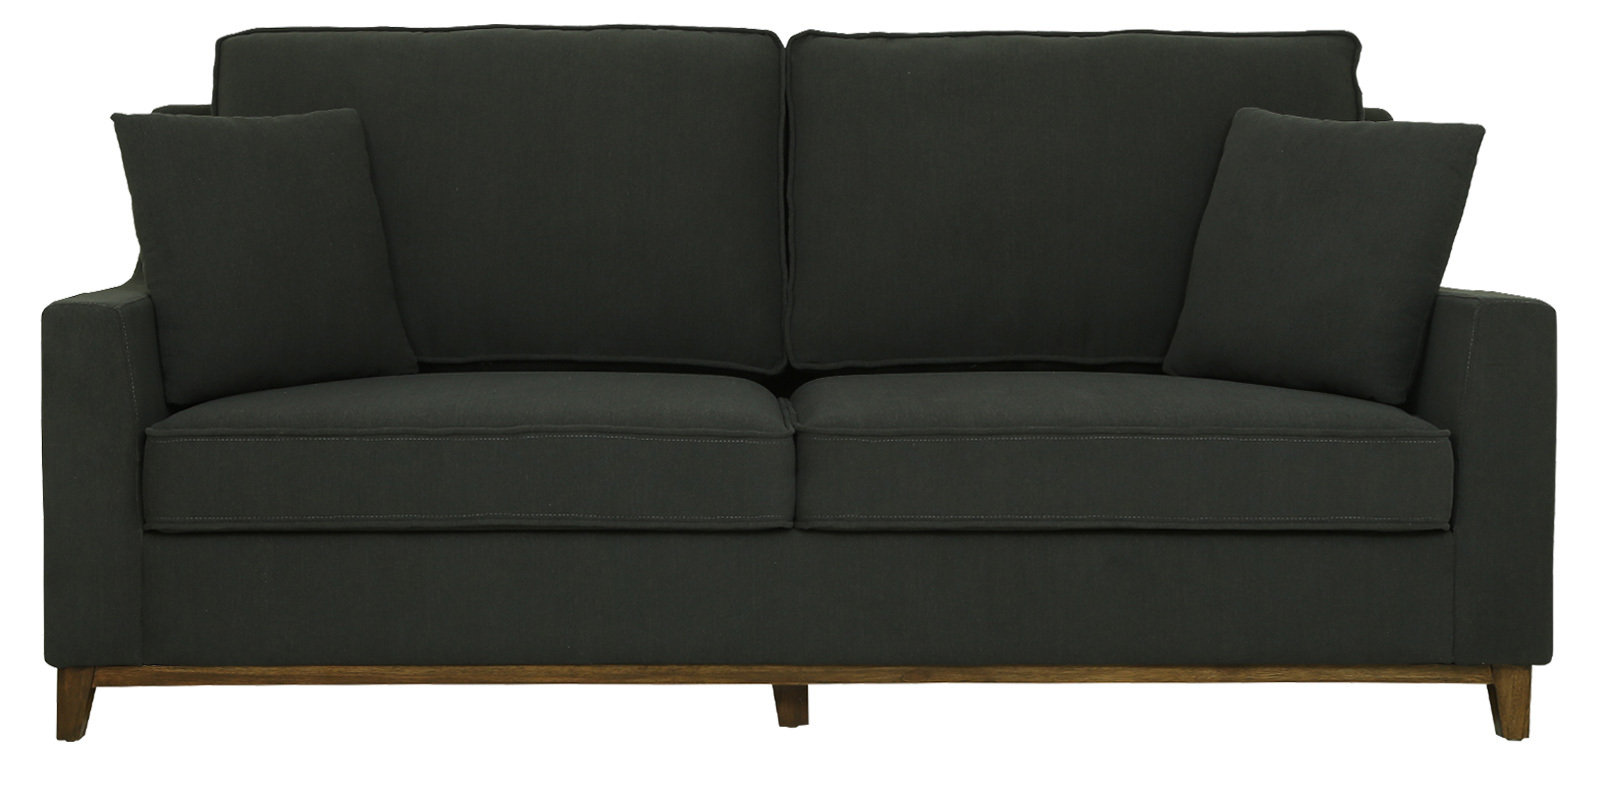Diego Three Seater Sofa in Charcoal Grey Colour by CasaCraft: (31, 18, 1560, 763)
